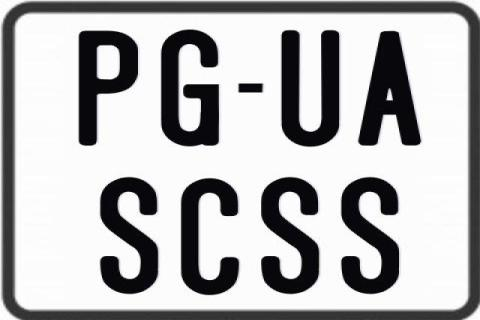A: (358, 29, 422, 149)
C: (178, 179, 239, 295)
G: (158, 29, 222, 151)
P: (76, 29, 140, 148)
S: (259, 174, 323, 296), (99, 176, 161, 296), (338, 176, 397, 294)
U: (278, 31, 342, 151)
